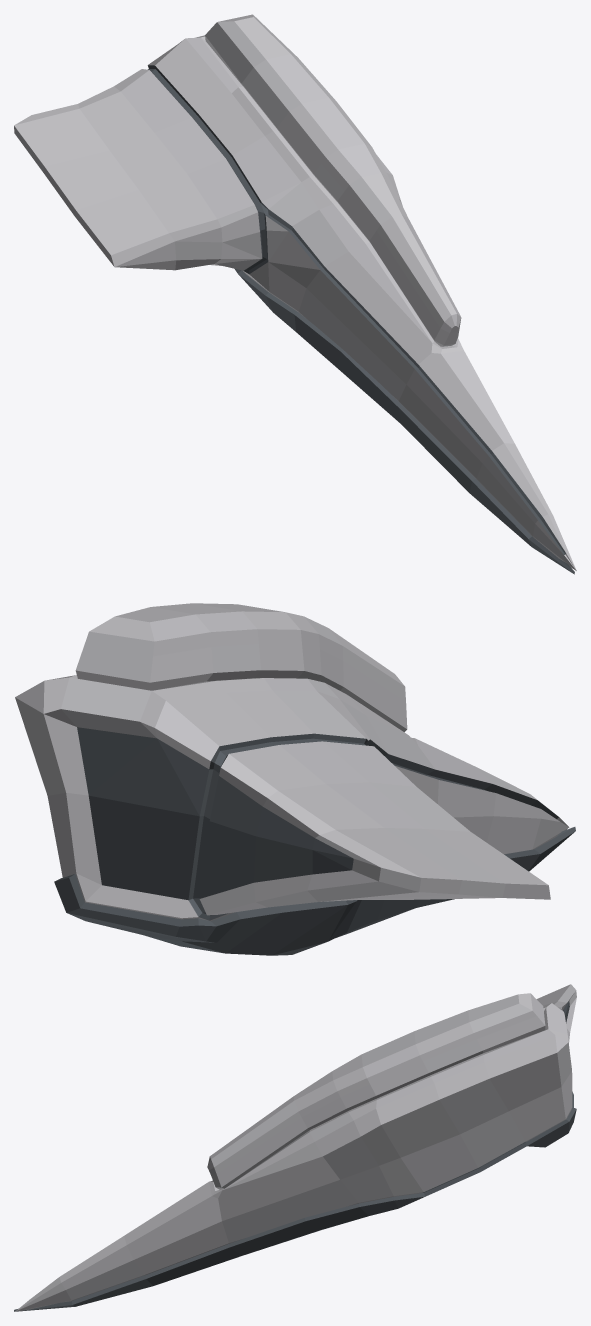
Rendered from Fighter_03_Wing_Bottom_Right.fbx.
The picture shows the model from 3 angles, top to bottom: view 1: azimuth 30°, elevation 25°; view 2: azimuth 150°, elevation 25°; view 3: azimuth 270°, elevation 25°; orthographic projection. The views are drawn at different scales.
Visible parts, largest first — view 1: Fighter_03_Wing_Bottom_Right; view 2: Fighter_03_Wing_Bottom_Right; view 3: Fighter_03_Wing_Bottom_Right.
Part boxes in pixels (x1,y1,x2,y2): Fighter_03_Wing_Bottom_Right: (14,14,576,574); Fighter_03_Wing_Bottom_Right: (15,603,575,955); Fighter_03_Wing_Bottom_Right: (14,984,576,1311).
Bounding box in the file's own units: 354 × 440 × 752.
2 materials, 2 textured.
